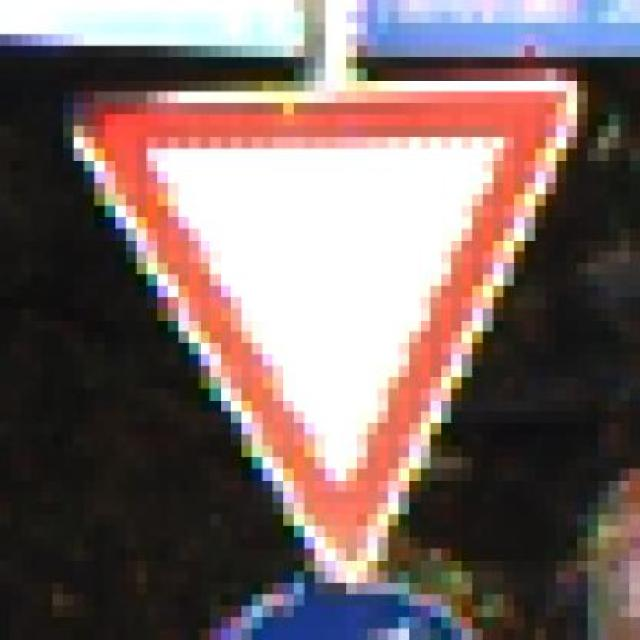Give Way: (10, 79, 619, 595)
